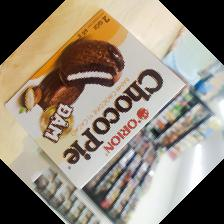Chocopie_cacao: (4, 8, 185, 190)
